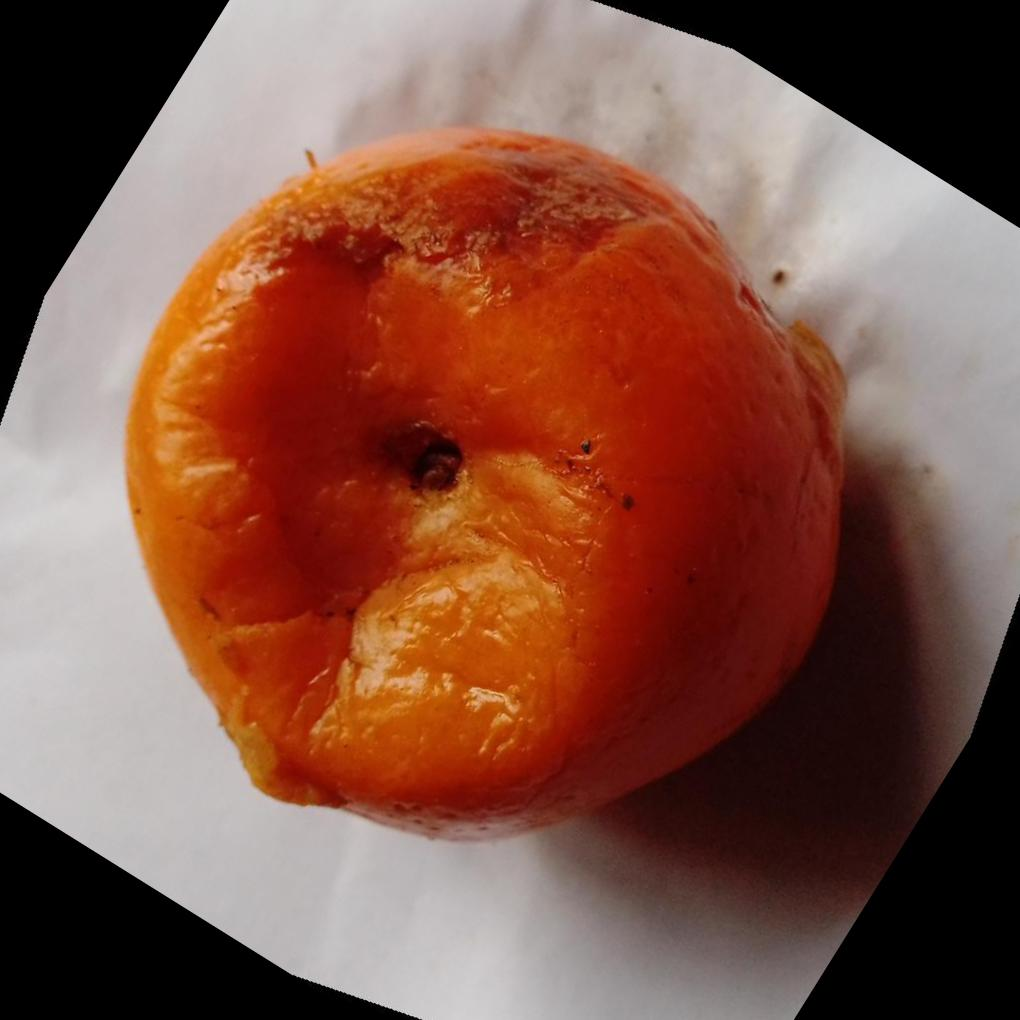FreshOrange: (121, 118, 851, 844)
